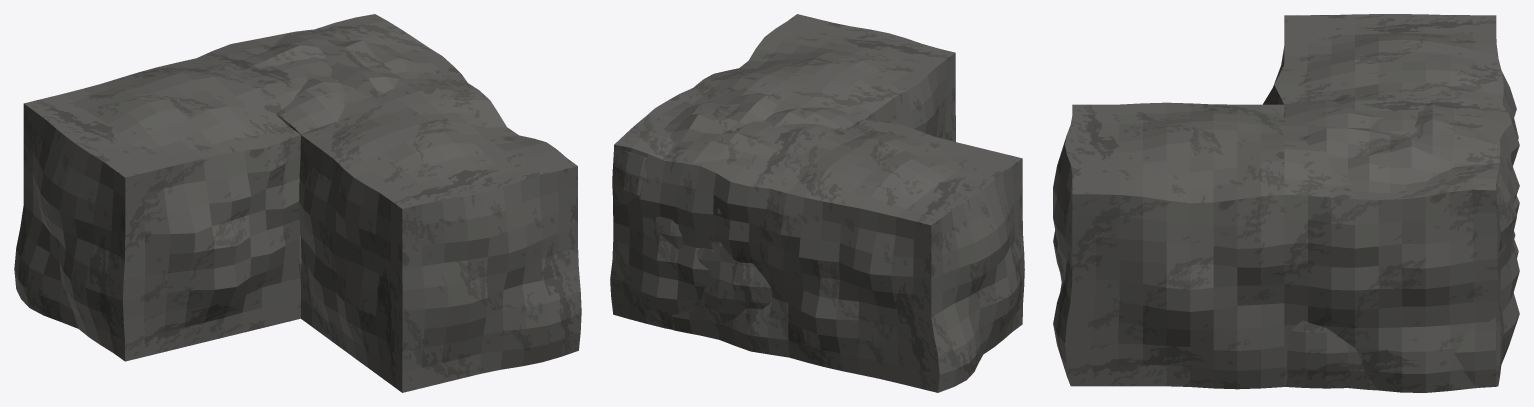
Rendered from Rocks.fbx.
3 views of the same model, side by side, from view 1: azimuth 30°, elevation 25°; view 2: azimuth 150°, elevation 25°; view 3: azimuth 270°, elevation 25° (orthographic). The views are drawn at different scales.
Visible parts, largest first — view 1: Rock_Corner, Rock_Block; view 2: Rock_Corner, Rock_Block; view 3: Rock_Corner, Rock_Block.
Boxes of the visible parts, x1,y1,x2,y2 form: Rock_Corner: (14, 14, 581, 392); Rock_Block: (241, 30, 439, 281); Rock_Corner: (612, 14, 1024, 392); Rock_Block: (610, 93, 863, 335); Rock_Corner: (1053, 14, 1519, 392); Rock_Block: (1283, 99, 1516, 390).
Size of the model in its own units: 225 by 111 by 220.
